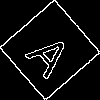A: (25, 25, 82, 81)
